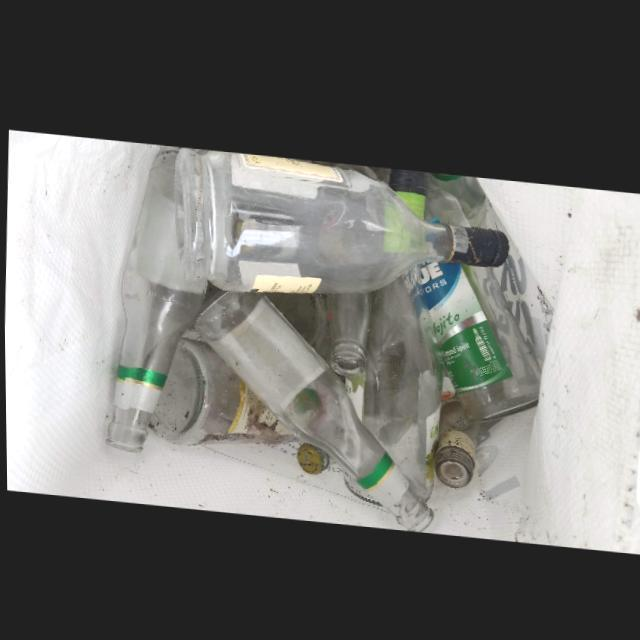glass: (193, 287, 432, 525), (172, 143, 508, 289), (104, 148, 204, 463), (343, 259, 440, 496), (419, 255, 539, 413), (146, 331, 293, 442), (434, 369, 475, 481), (323, 286, 376, 372)
